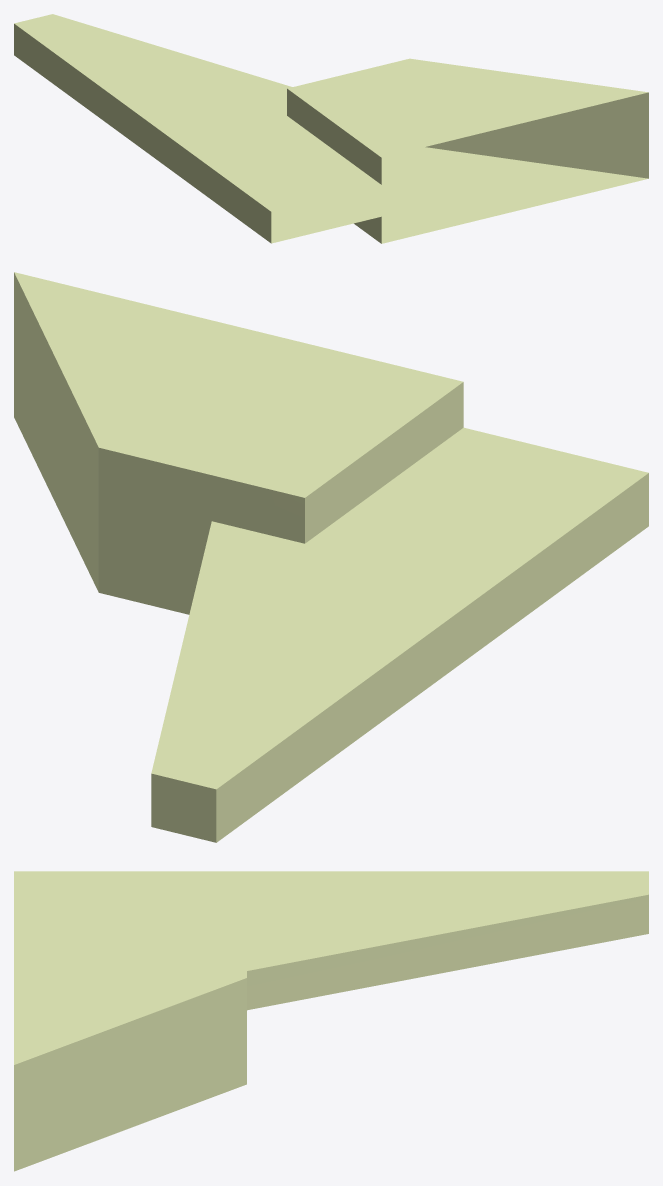
3 renders of one model, top to bottom at view 1: azimuth 30°, elevation 25°; view 2: azimuth 150°, elevation 25°; view 3: azimuth 270°, elevation 25°, orthographic. The views are drawn at different scales.
Parts seen in each view (by area): view 1: Object87; view 2: Object87; view 3: Object87.
Boxes of the visible parts, <box> form: Object87: <box>14,14,648,243</box>; Object87: <box>14,272,648,842</box>; Object87: <box>14,871,648,1171</box>.
Bounding box in the file's own units: 11475 × 2506 × 13538.
